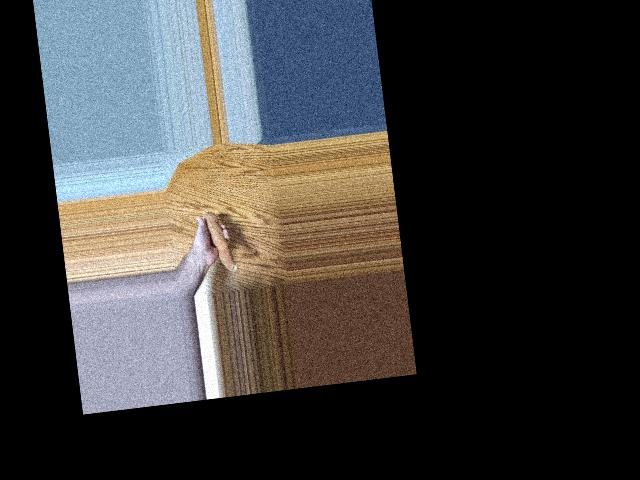sweet_potato: (204, 209, 227, 274)
